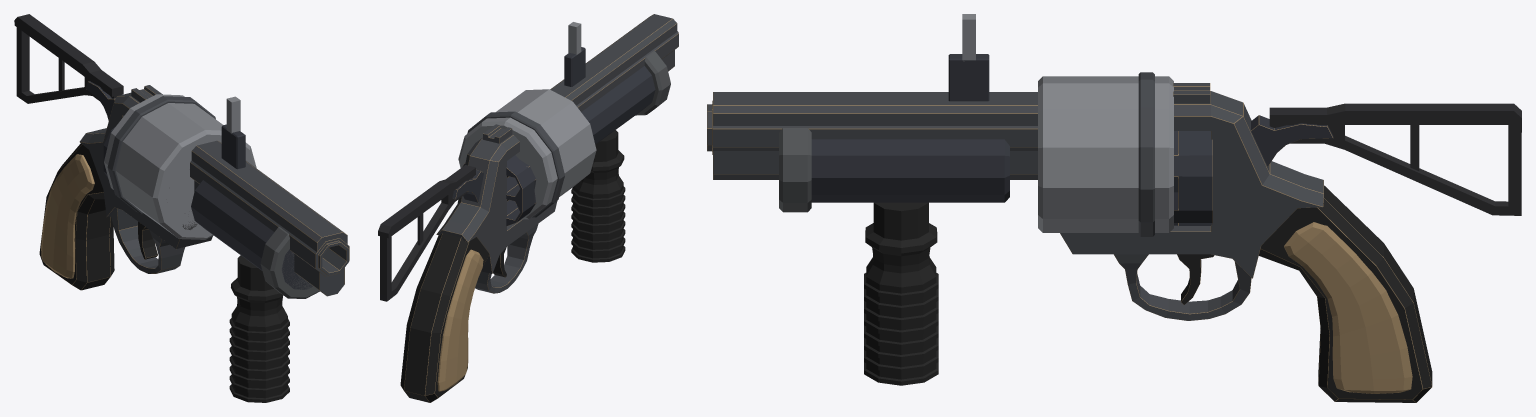
The model's file is grenade_launcher.glb.
The picture shows the model from 3 angles, left to right: view 1: azimuth 30°, elevation 25°; view 2: azimuth 150°, elevation 25°; view 3: azimuth 270°, elevation 25°; orthographic projection. The views are drawn at different scales.
Visible parts, largest first — view 1: grenade_launcher; view 2: grenade_launcher; view 3: grenade_launcher.
Boxes of the visible parts, left/top/right/bottom form: grenade_launcher: left=14, top=14, right=349, bottom=402; grenade_launcher: left=378, top=14, right=678, bottom=402; grenade_launcher: left=707, top=14, right=1521, bottom=402.
Size of the model in its own units: 0.1217 by 0.3077 by 0.6.
